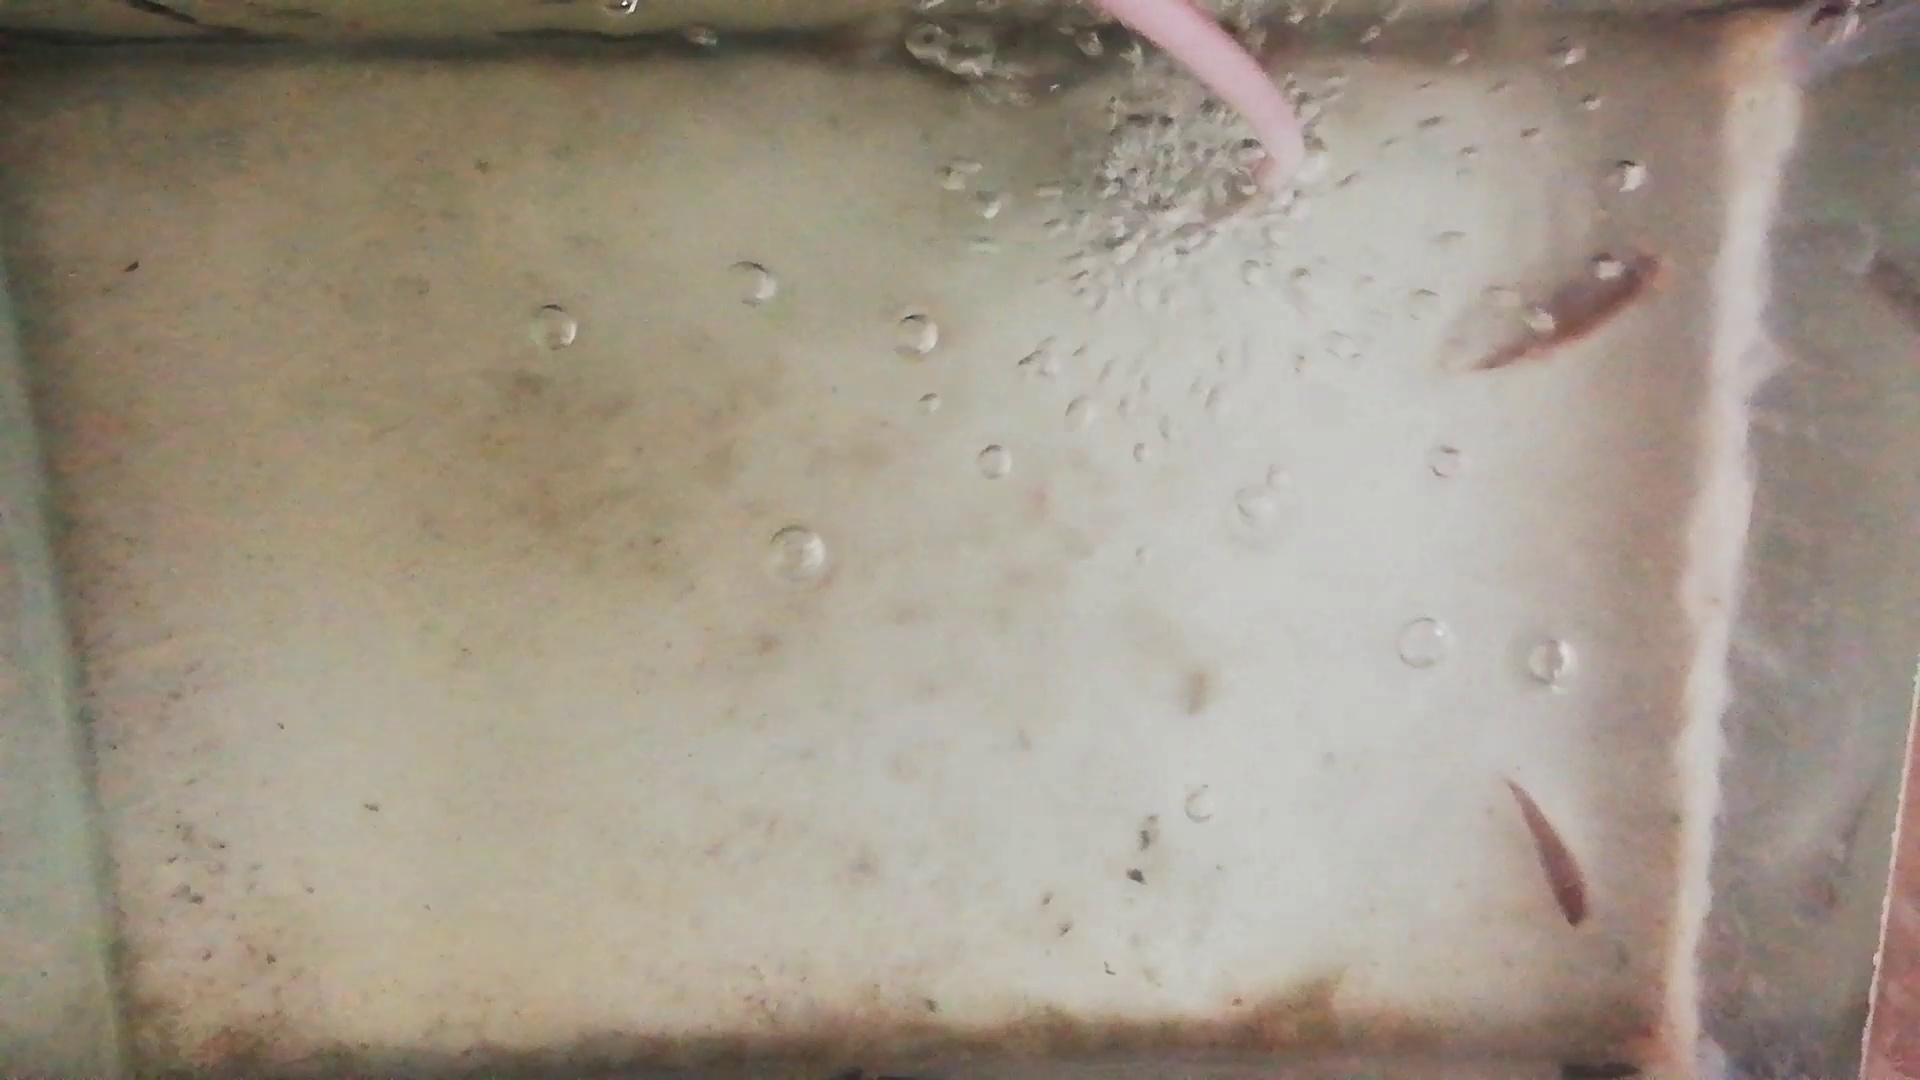fish: (1477, 256, 1663, 373), (1507, 779, 1592, 932)
